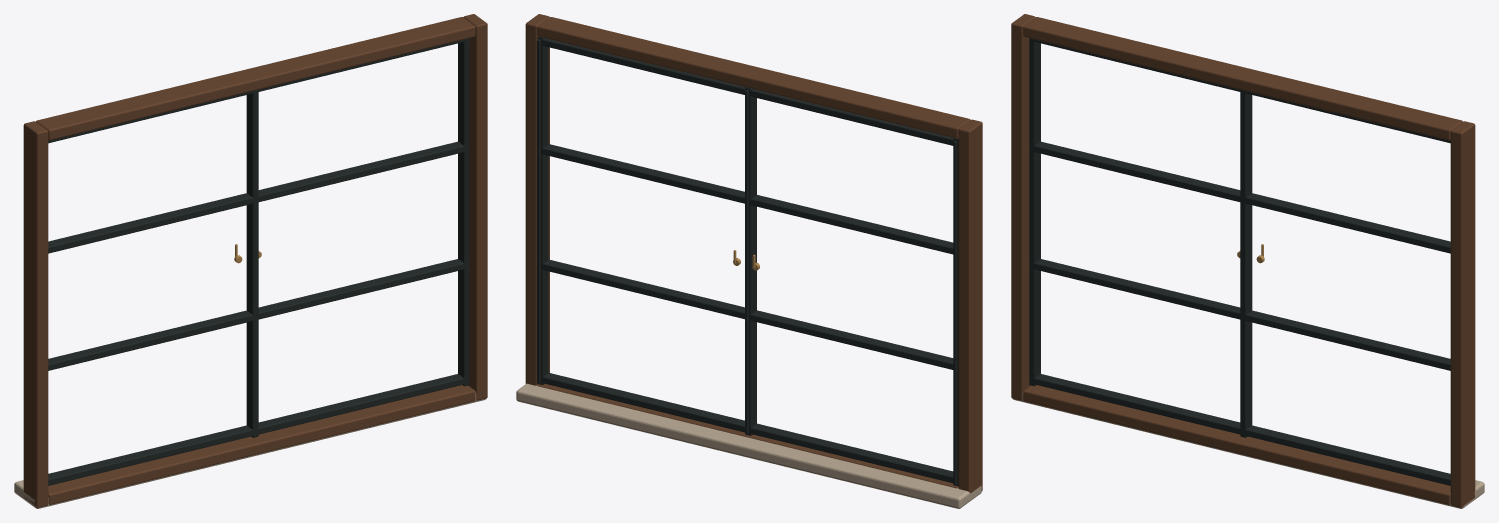
Rendered from window-frame.glb.
The picture shows the model from 3 angles, left to right: view 1: azimuth 30°, elevation 25°; view 2: azimuth 150°, elevation 25°; view 3: azimuth 330°, elevation 25°; orthographic projection.
Visible parts, largest first — view 1: window-frame__wood_walnut, window-frame__metal_iron, window-frame__stone_cream; view 2: window-frame__metal_iron, window-frame__wood_walnut, window-frame__stone_cream; view 3: window-frame__wood_walnut, window-frame__metal_iron, window-frame__stone_cream.
Part boxes in pixels (x1,y1,x2,y2): window-frame__wood_walnut: (23, 14, 487, 507); window-frame__metal_iron: (48, 38, 469, 485); window-frame__stone_cream: (14, 392, 486, 508); window-frame__metal_iron: (537, 36, 958, 486); window-frame__wood_walnut: (525, 14, 982, 493); window-frame__stone_cream: (516, 383, 981, 508); window-frame__wood_walnut: (1011, 14, 1475, 507); window-frame__metal_iron: (1029, 38, 1450, 485); window-frame__stone_cream: (1012, 392, 1484, 508).
Size of the model in its own units: 3.02 by 2.41 by 0.275.
